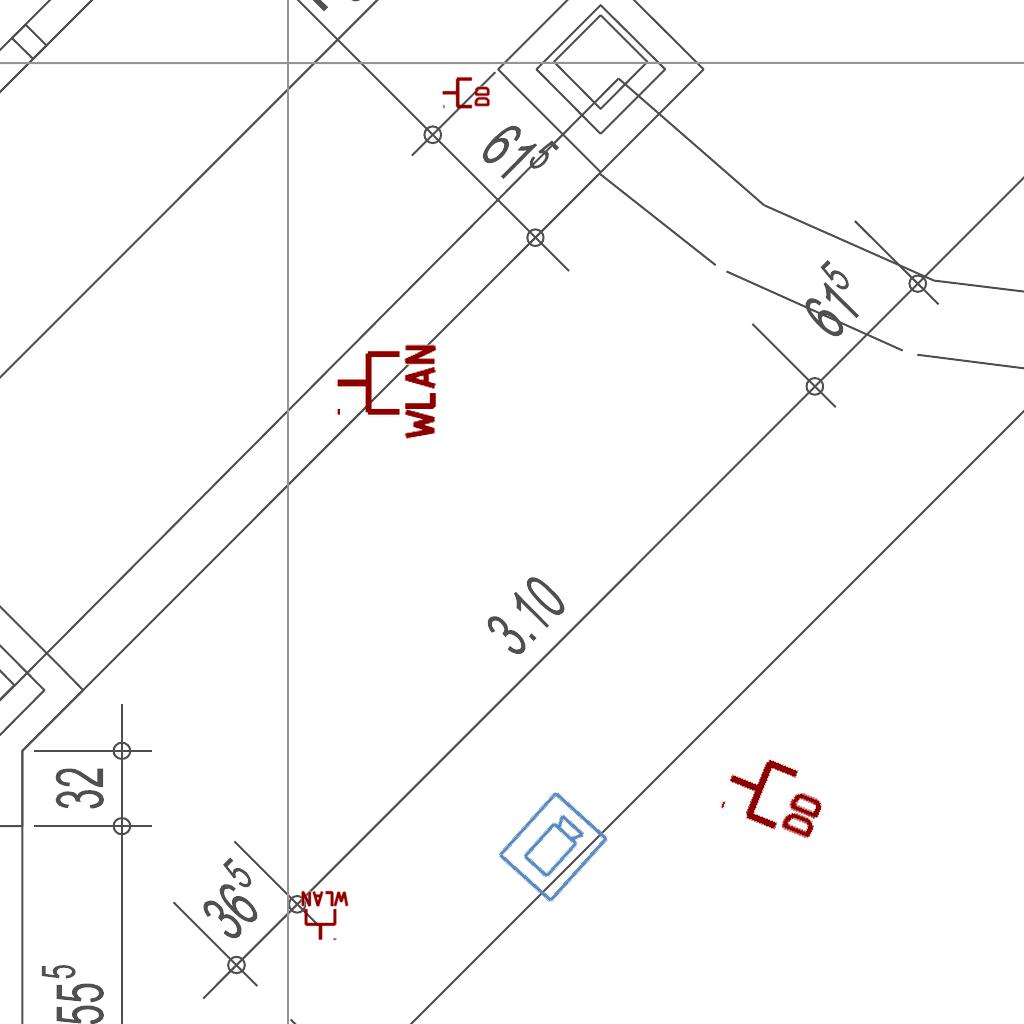Datenanschluss_zweifach: (715, 743, 838, 846), (441, 75, 492, 109)
KFO_Kamera_mit_Festobjektiv: (494, 787, 613, 908)
WLAN: (333, 340, 438, 444), (299, 890, 351, 942)
